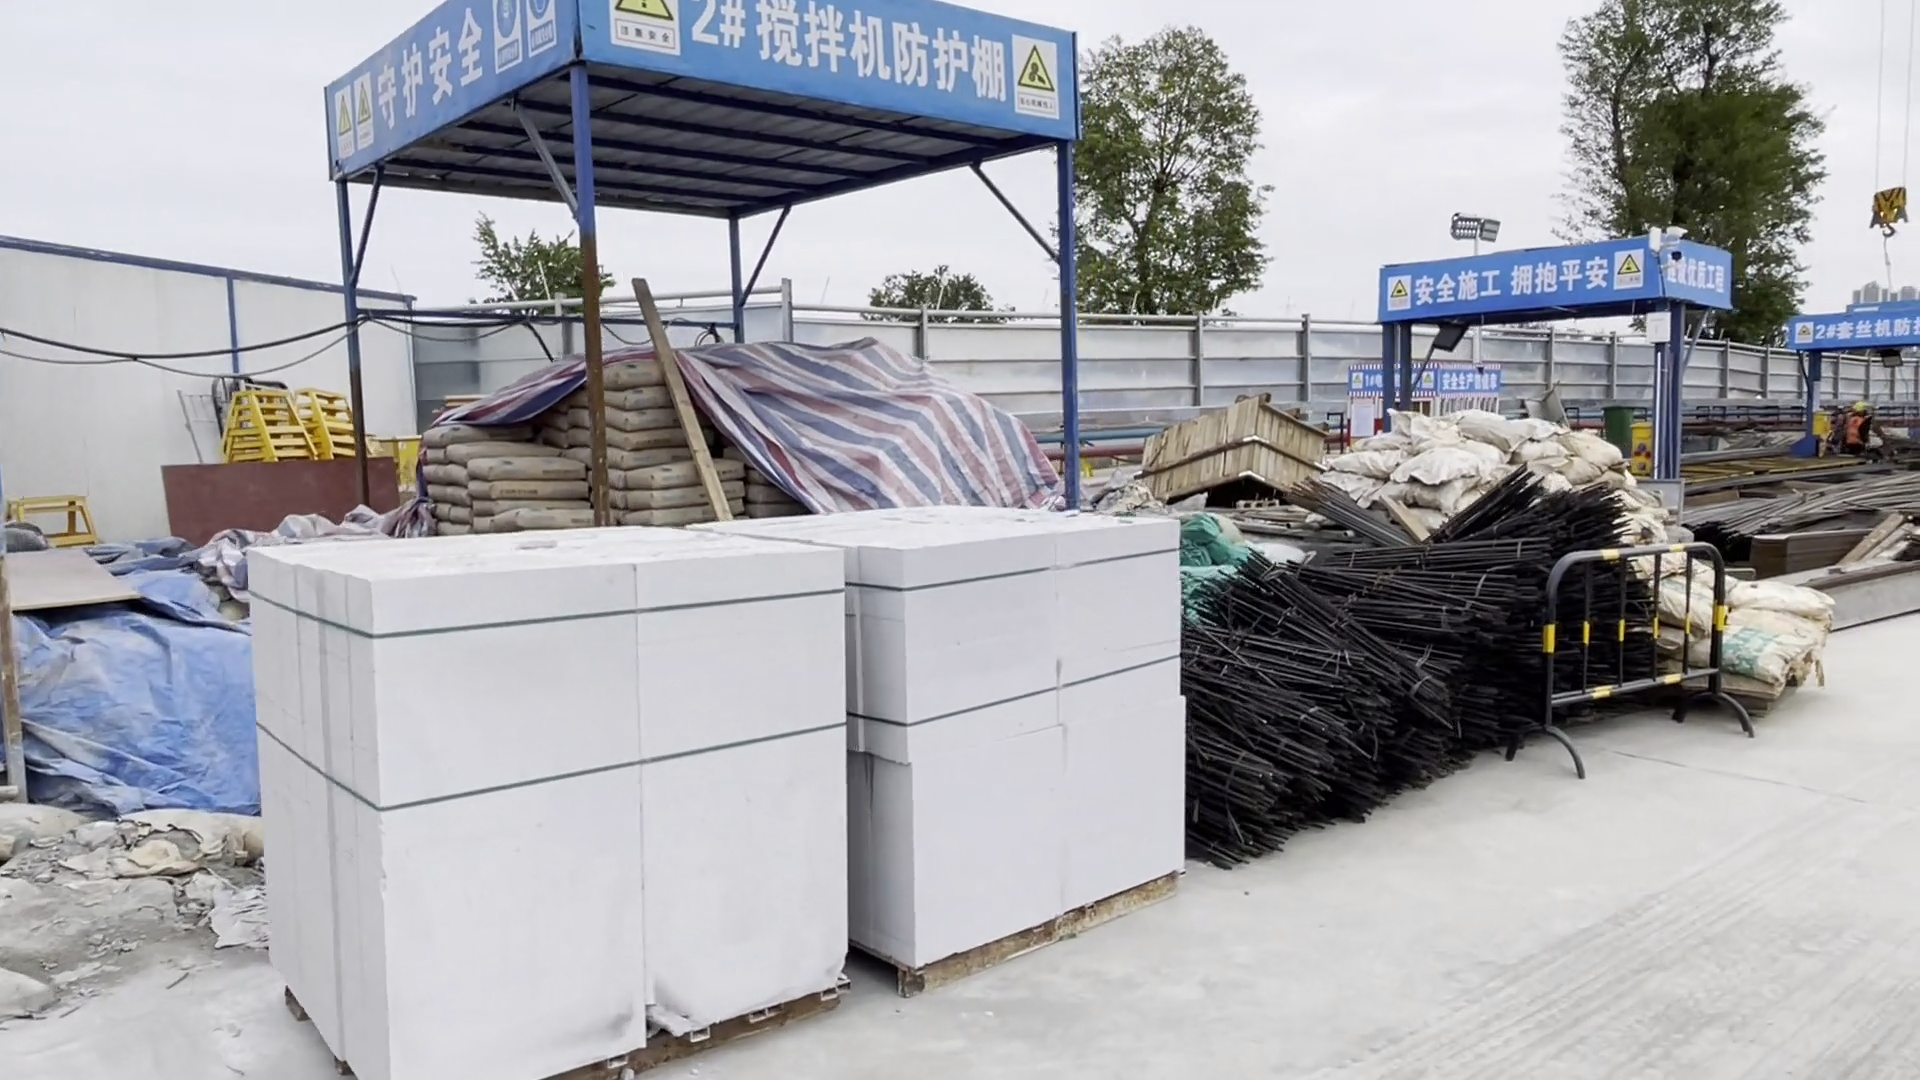brick: (235, 522, 854, 1080), (721, 449, 1214, 1012)
ebox: (1629, 420, 1655, 471)
helmet: (1853, 401, 1869, 413)
person: (1841, 400, 1868, 452)
rebar: (1680, 475, 1920, 569)
slogan: (348, 17, 495, 107), (1410, 262, 1625, 312)
vest: (1844, 417, 1861, 443)
